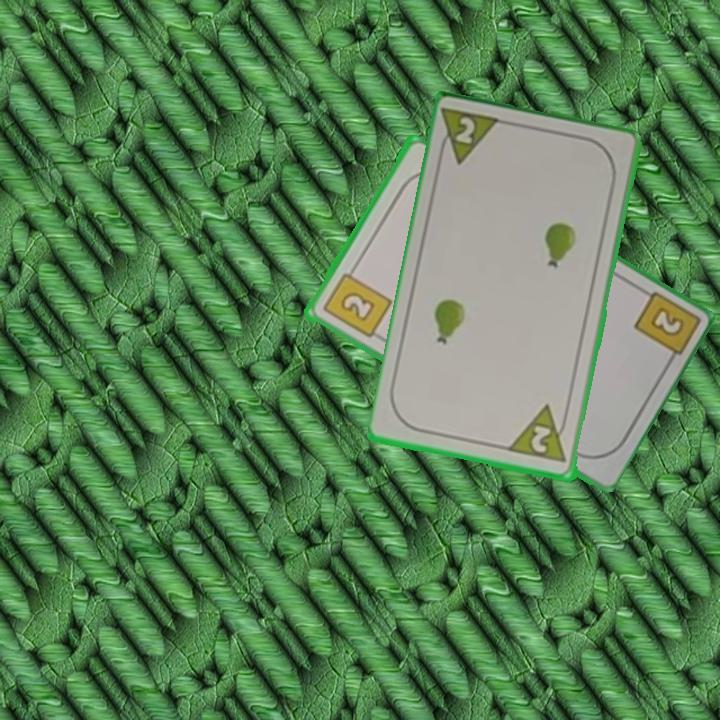2b: (318, 262, 394, 341), (646, 303, 687, 340)
2p: (435, 104, 506, 169), (507, 402, 573, 466)
